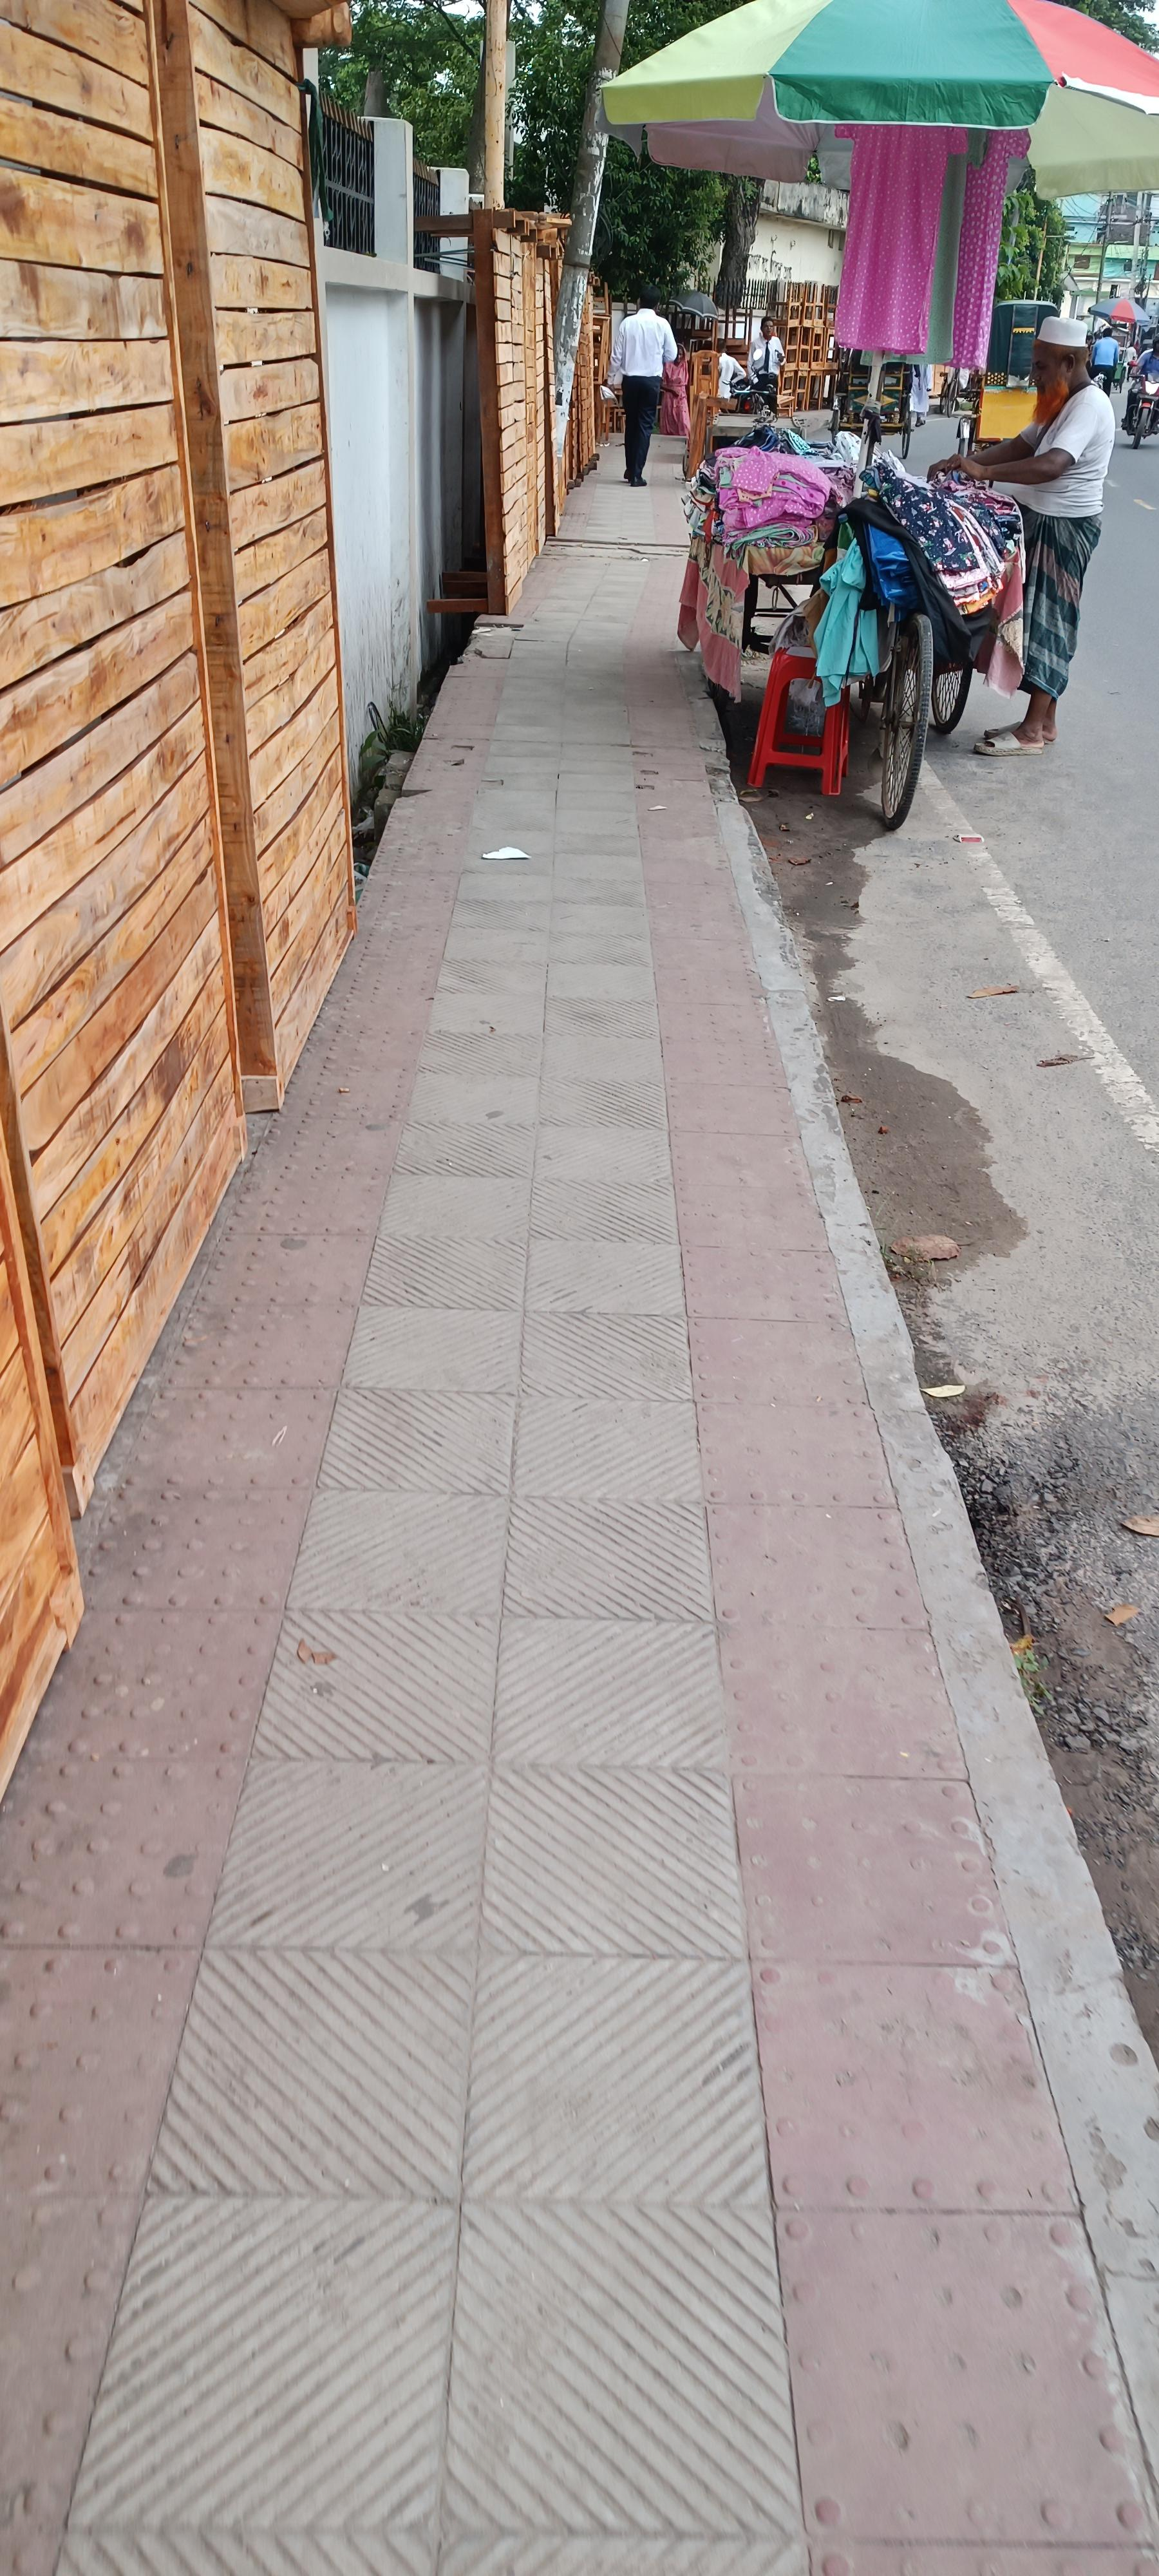Garbage-bin: (928, 314, 1116, 754), (609, 289, 680, 486), (749, 317, 786, 412)
Pothole: (8, 406, 1156, 2569)
